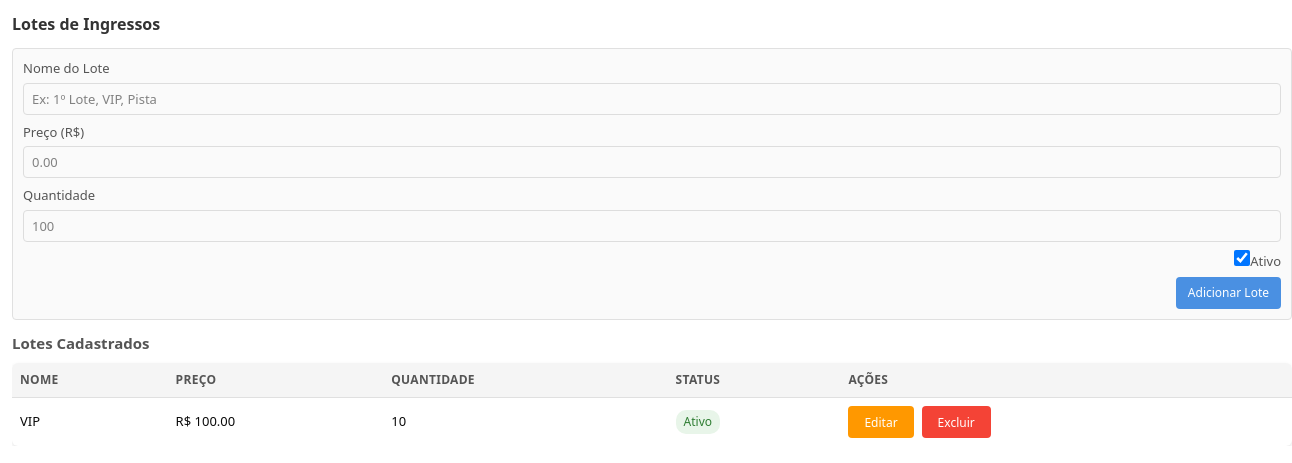
Test case: TicketLotManager › editar lote: clicar Editar preenche o form, salvar faz PUT e atualiza linha
Check: the text "VIP" is shown, box [12,397,168,446]
Check: the button "Adicionar Lote" is enabled, box [1176,277,1281,309]
Click the button "Editar" at point(881, 422), box [848,406,914,438]
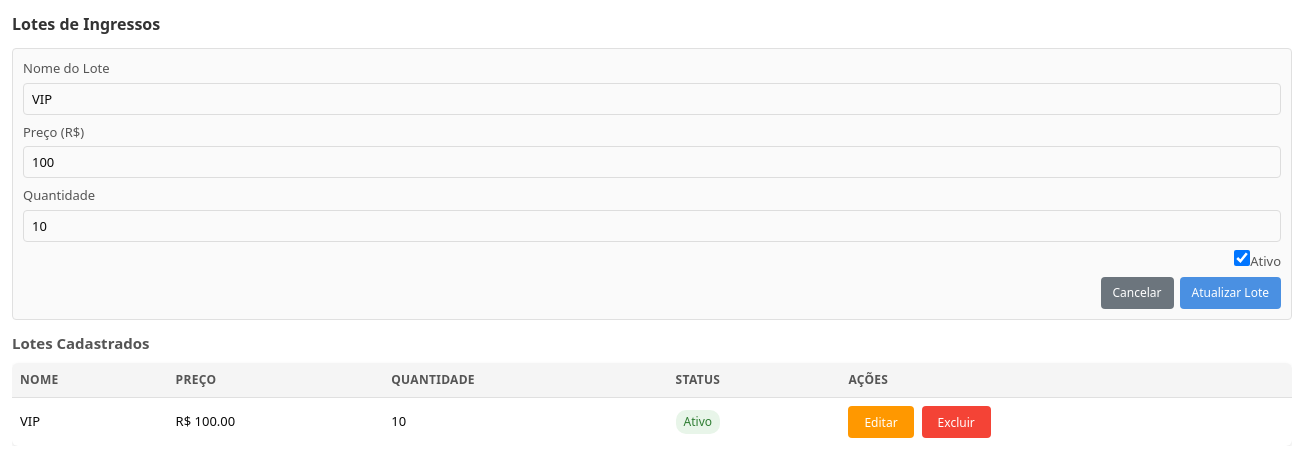
Check: the field with placeholder "Ex: 1º Lote, VIP, Pista" holds "VIP"
Replace the text in the field with placeholder "Ex: 1º Lote, VIP, Pista" with "VIP Atualizado" at point(652, 98), box [23,82,1281,114]
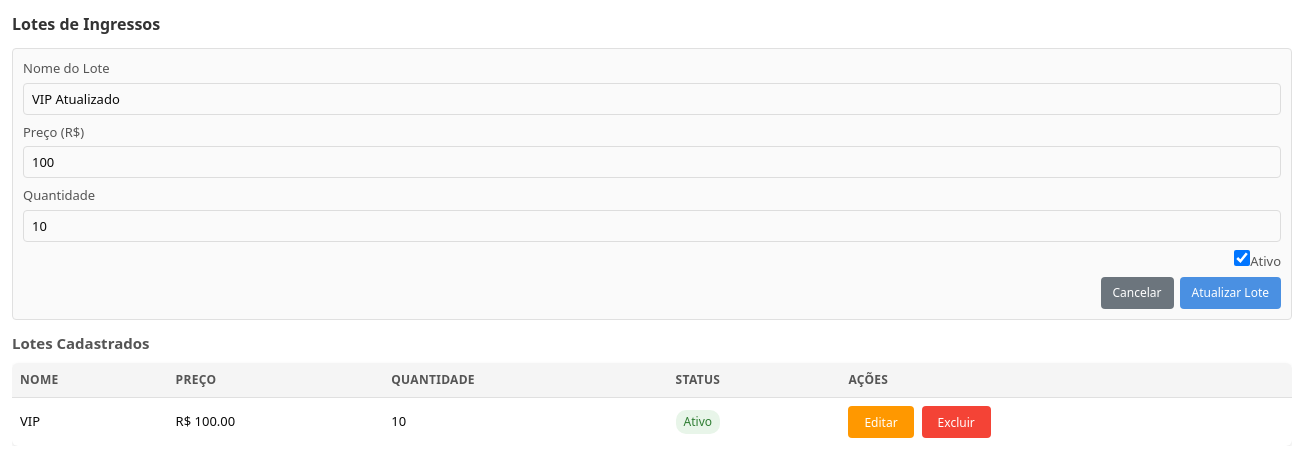
Click the button "Atualizar Lote" at point(1230, 293), box [1180,277,1281,309]
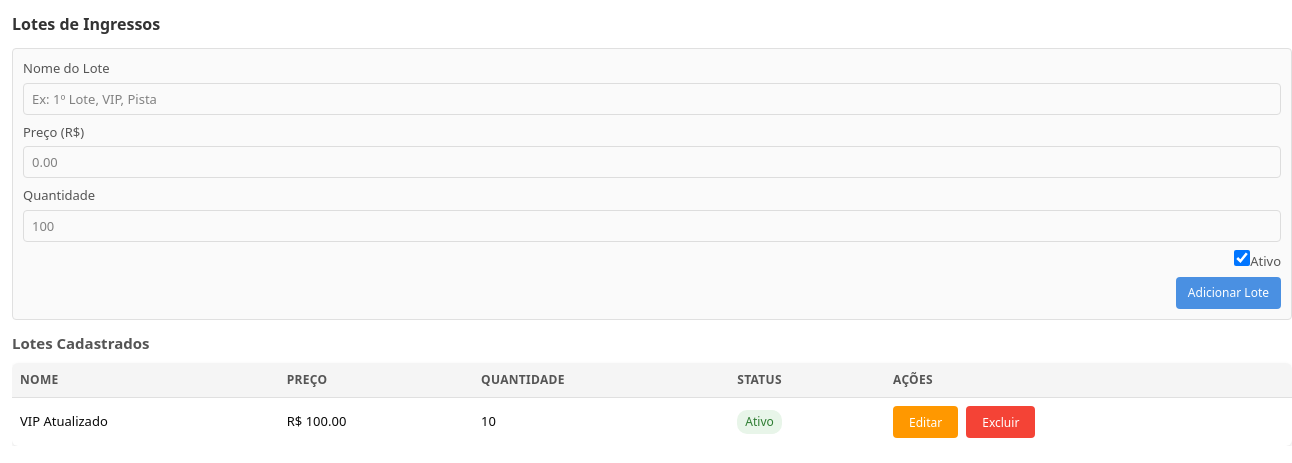
Check: the text "VIP Atualizado" is shown, box [12,397,279,446]
